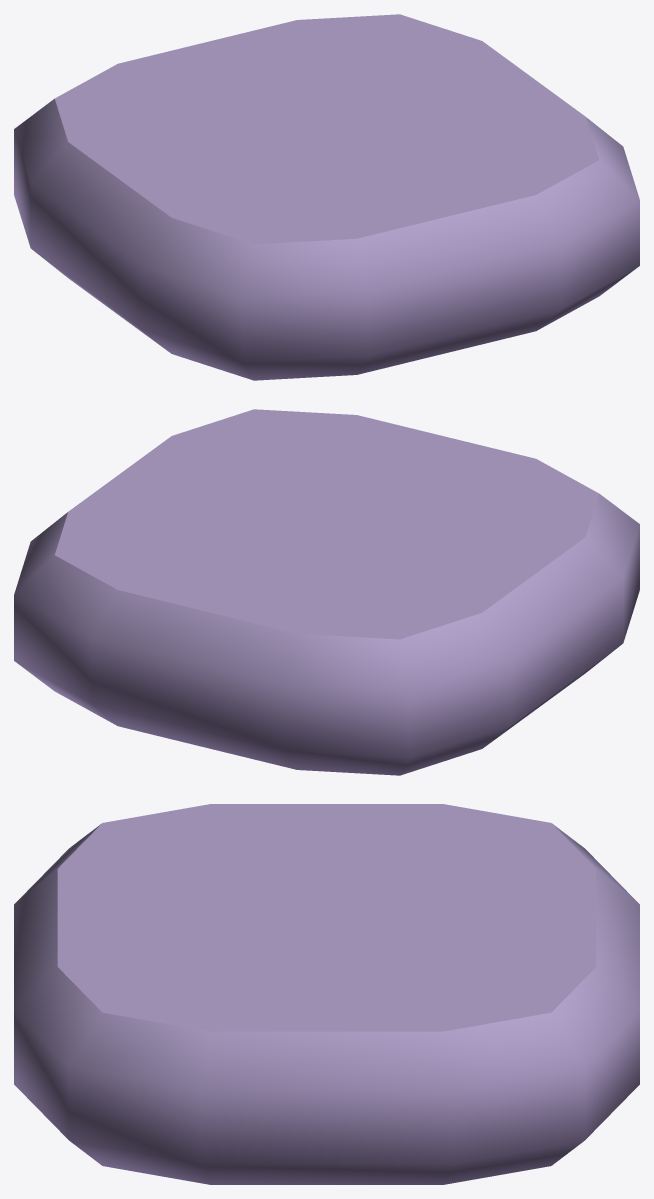
The model's file is cushion-rounded.glb.
3 views of the same model, one above another, from view 1: azimuth 30°, elevation 25°; view 2: azimuth 150°, elevation 25°; view 3: azimuth 270°, elevation 25° (orthographic). The views are drawn at different scales.
Visible parts, largest first — view 1: cushion-rounded; view 2: cushion-rounded; view 3: cushion-rounded.
Part boxes in pixels (<box>): cushion-rounded: <box>14,14,639,380</box>; cushion-rounded: <box>14,409,639,775</box>; cushion-rounded: <box>14,804,639,1184</box>.
Size of the model in its own units: 0.5 by 0.1352 by 0.5.
